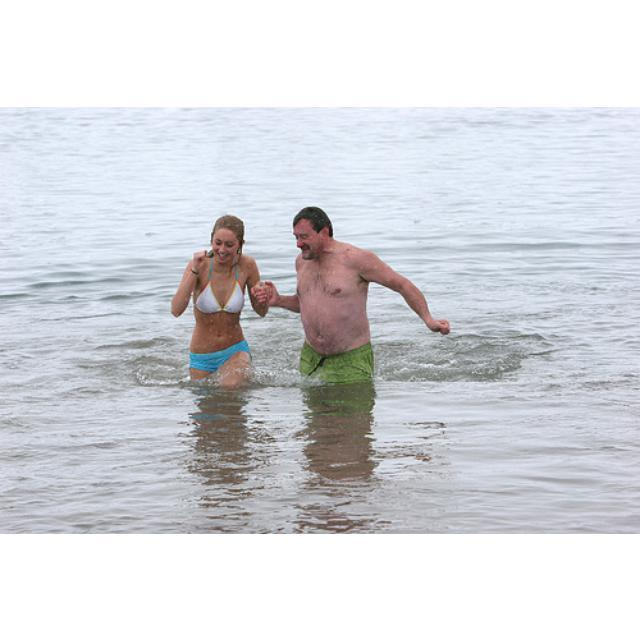human: (263, 207, 449, 383), (172, 213, 262, 387)
